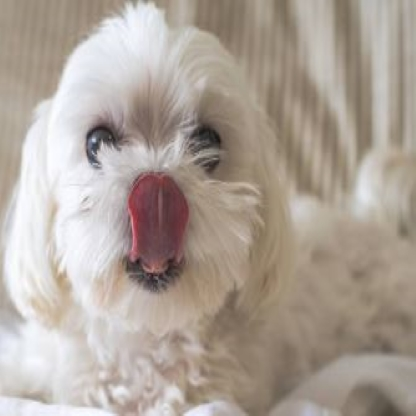maltese: (4, 3, 314, 416)
